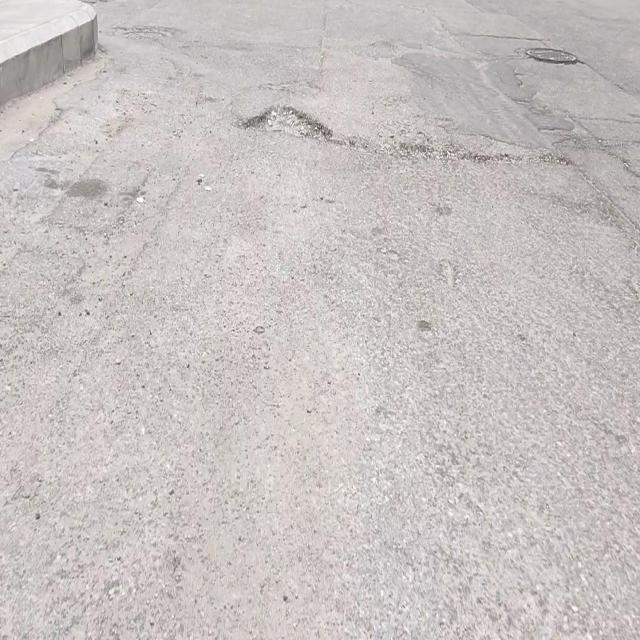Potholes: (243, 101, 333, 144)
